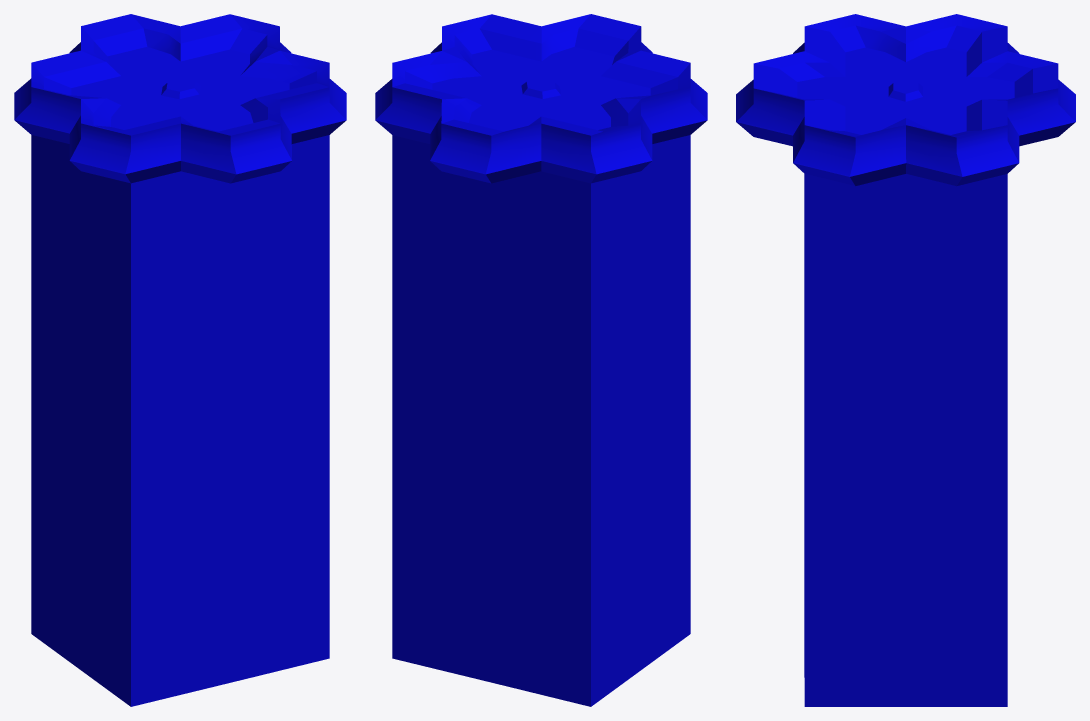
The model's file is hexagon tower.fbx.
The picture shows the model from 3 angles, left to right: view 1: azimuth 30°, elevation 25°; view 2: azimuth 150°, elevation 25°; view 3: azimuth 270°, elevation 25°; orthographic projection.
Visible parts, largest first — view 1: polySurface1; view 2: polySurface1; view 3: polySurface1.
Boxes of the visible parts, x1,y1,x2,y2 form: polySurface1: (14,14,346,706); polySurface1: (375,14,707,706); polySurface1: (736,14,1075,706).
Size of the model in its own units: 5.54 by 10.91 by 5.78.
